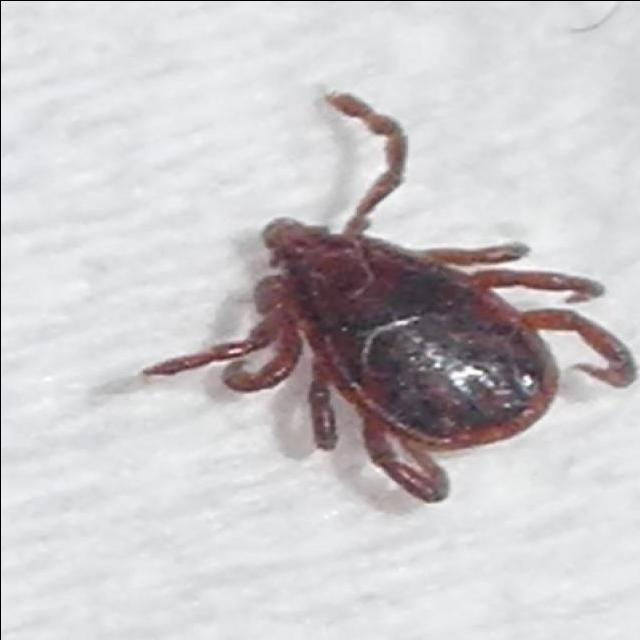Rhipicephalus Sanguineus-M: (140, 92, 632, 504)
